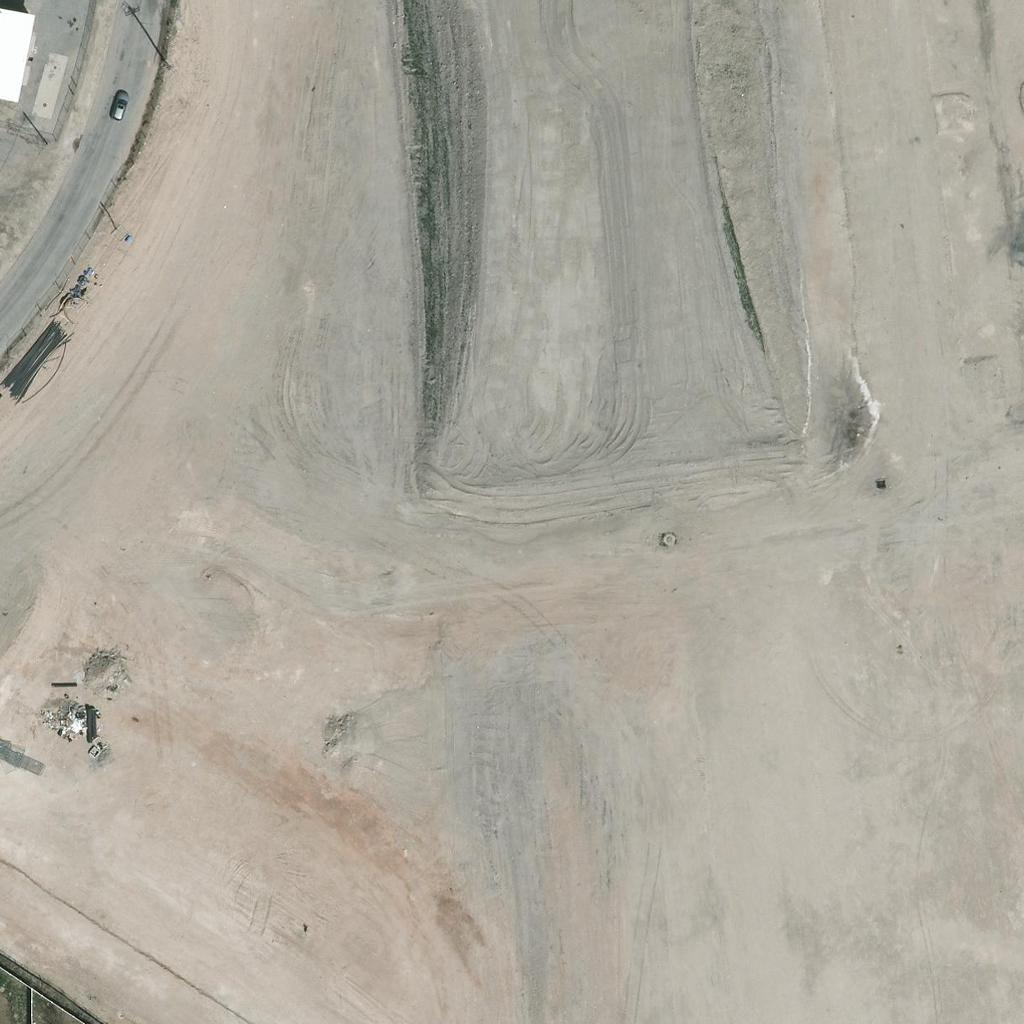car: (103, 89, 137, 123)
